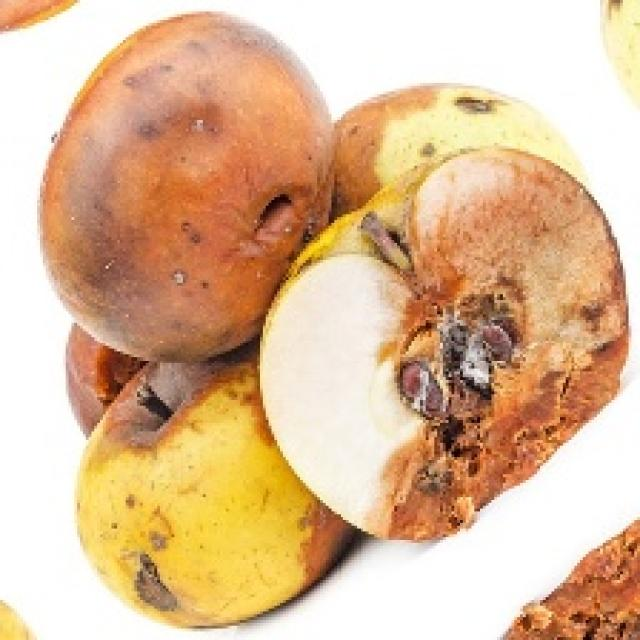rotten_apple: (285, 170, 623, 528), (52, 16, 302, 330), (78, 364, 266, 623), (342, 87, 574, 176)
